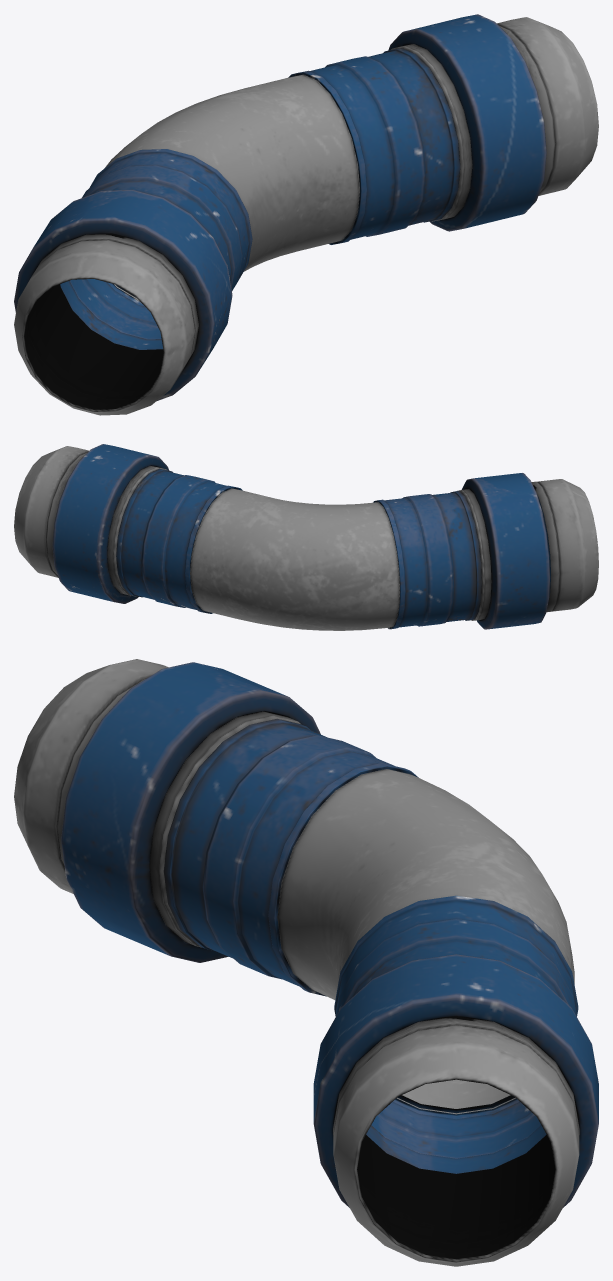
Rendered from SM_Pipe01_45o.fbx.
3 renders of one model, top to bottom at view 1: azimuth 30°, elevation 25°; view 2: azimuth 150°, elevation 25°; view 3: azimuth 270°, elevation 25°, orthographic. The views are drawn at different scales.
Visible parts, largest first — view 1: SM_Pipe01_45o_LOD0; view 2: SM_Pipe01_45o_LOD0; view 3: SM_Pipe01_45o_LOD0.
Boxes of the visible parts, x1,y1,x2,y2 form: SM_Pipe01_45o_LOD0: (14, 14, 598, 415); SM_Pipe01_45o_LOD0: (14, 444, 598, 630); SM_Pipe01_45o_LOD0: (14, 659, 598, 1266).
Bounding box in the file's own units: 74.21 × 42.21 × 20.59.
Materials: 1 (1 with a texture image).
